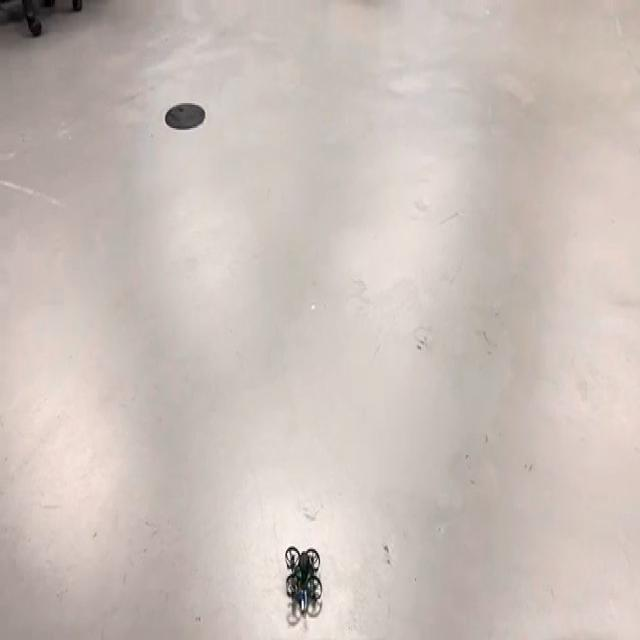drone: (276, 533, 330, 626)
